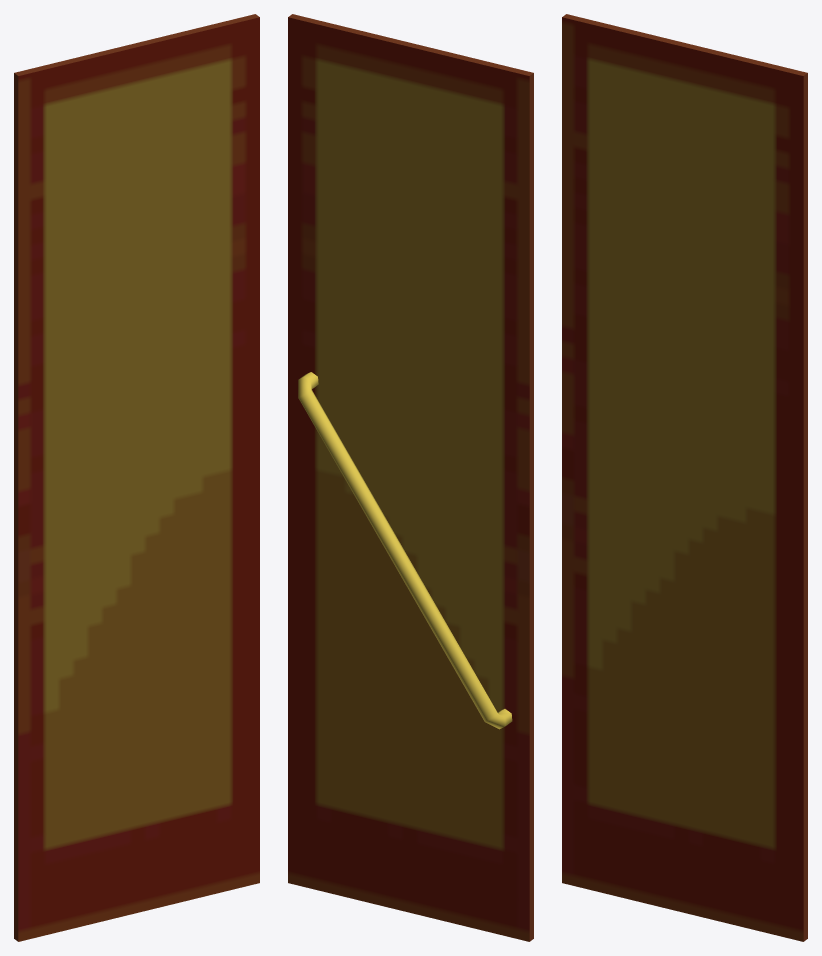
File: door2.glb
3 renders of one model, left to right at view 1: azimuth 30°, elevation 25°; view 2: azimuth 150°, elevation 25°; view 3: azimuth 330°, elevation 25°, orthographic.
Parts seen in each view (by area): view 1: Object_84; view 2: Object_84; view 3: Object_84.
Part boxes in pixels (x1,y1,x2,y2): Object_84: (14, 14, 259, 941); Object_84: (288, 14, 533, 941); Object_84: (562, 14, 807, 941).
Bounding box in the file's own units: 0.8876 × 3.04 × 0.1187.
Materials: 1 (1 with a texture image).
